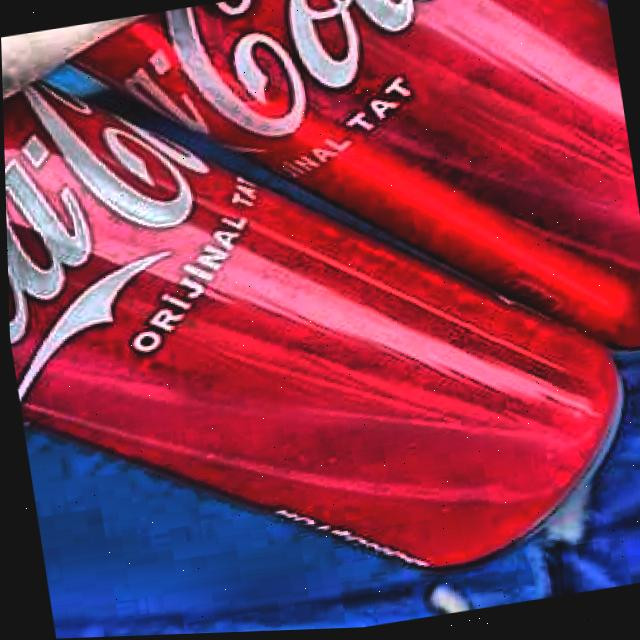metal: (2, 87, 613, 571), (80, 0, 640, 353)
